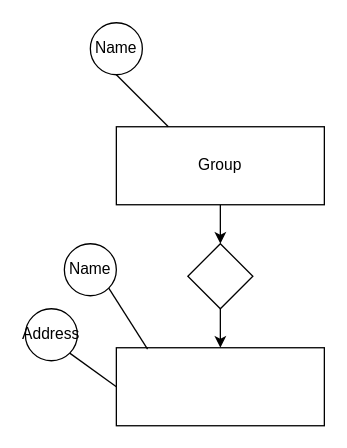
Image size: 347x448. Some labels were removed from this diagram. The shapes that lost their labels are listed below. From the top down, each one's centre as x and y in pixels, then its label:
At (220,275): "Own".
At (219,386): "Website".
